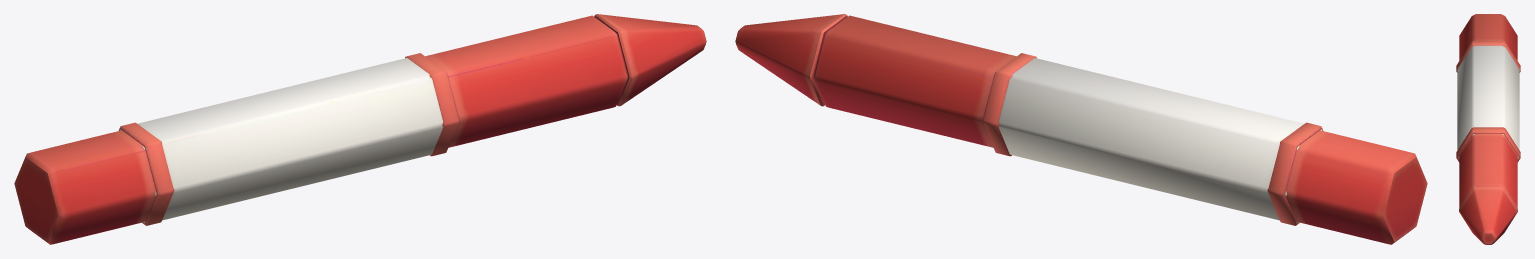
The model's file is toy_crayon_red.glb.
3 renders of one model, left to right at view 1: azimuth 30°, elevation 25°; view 2: azimuth 150°, elevation 25°; view 3: azimuth 270°, elevation 25°, orthographic. The views are drawn at different scales.
Parts seen in each view (by area): view 1: prop; view 2: prop; view 3: prop.
Boxes of the visible parts, x1,y1,x2,y2 form: prop: (14, 14, 706, 244); prop: (735, 14, 1427, 244); prop: (1456, 14, 1520, 244).
Size of the model in its own units: 7 by 0.8314 by 0.94.
Materials: 1 (1 with a texture image).
